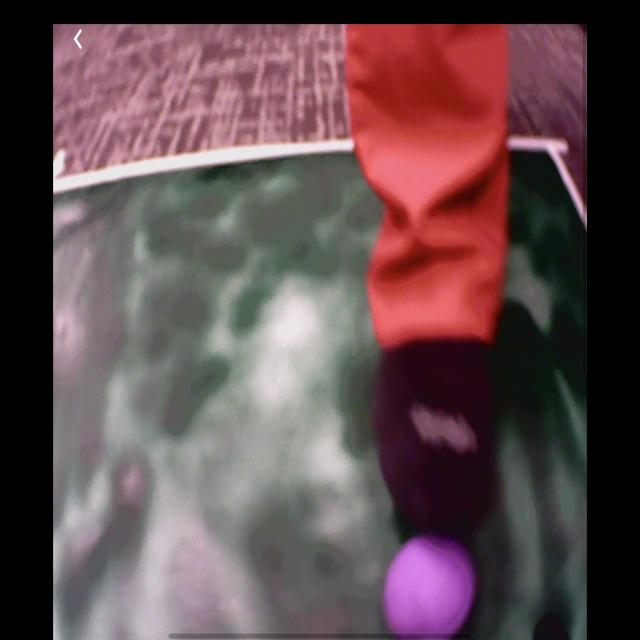ball: (384, 541, 478, 639)
